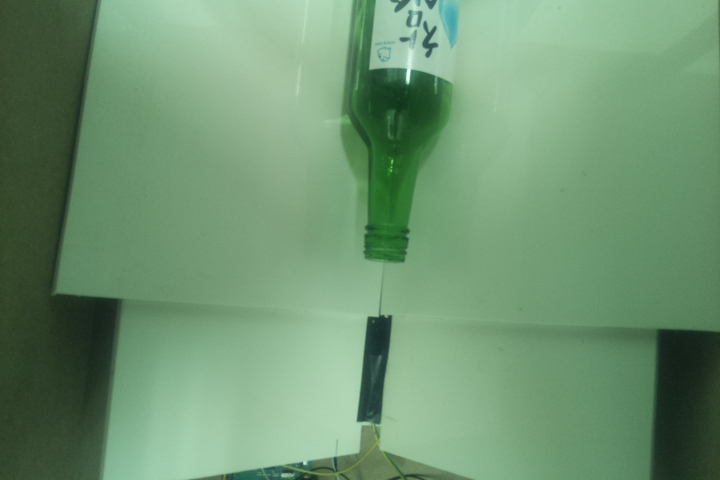soju: (341, 1, 465, 263)
